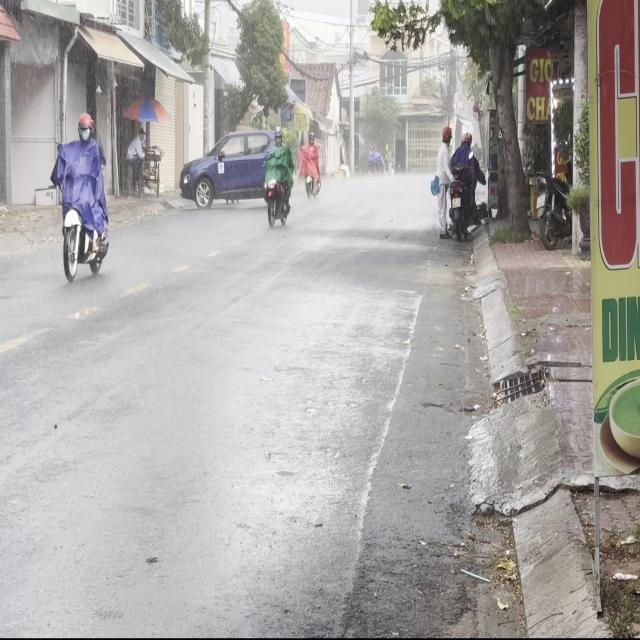helmet: (76, 111, 92, 140)
licenseplate: (53, 110, 110, 283)
